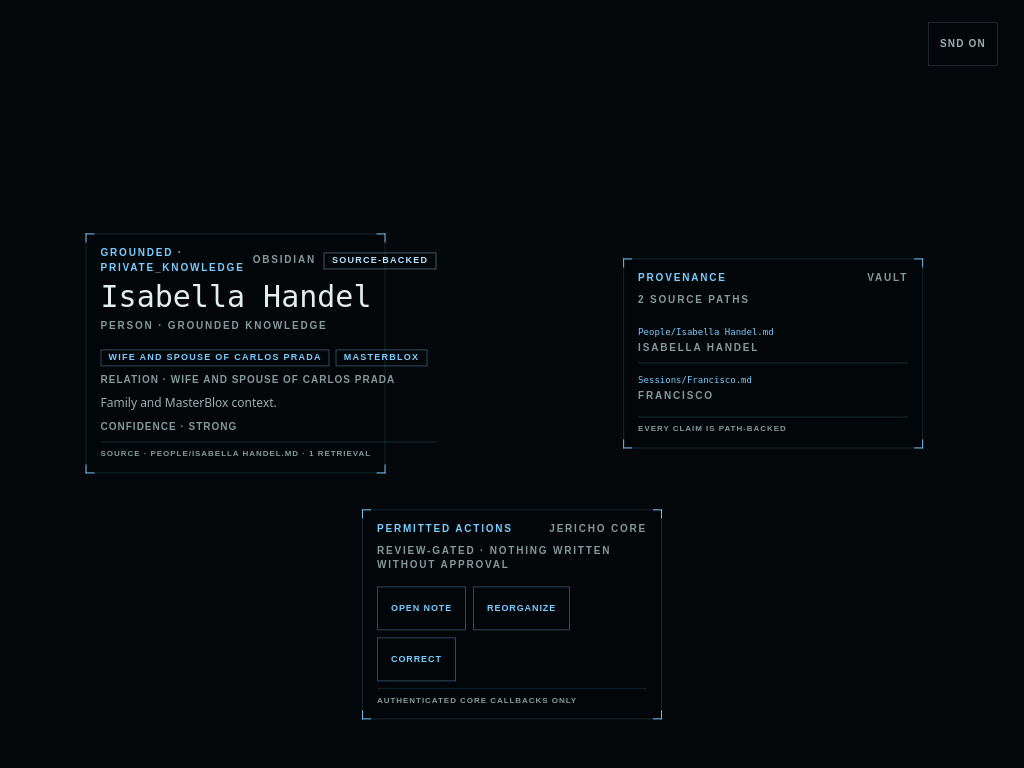
Test: KnowledgeProjection actions › wires Open Note, Reorganize, and Correct through the authenticated callbacks
What coordinates should you click on to do the following:
click the button "OPEN NOTE"
I would click on:
 (422, 608)
Its box is [377,586,466,630].
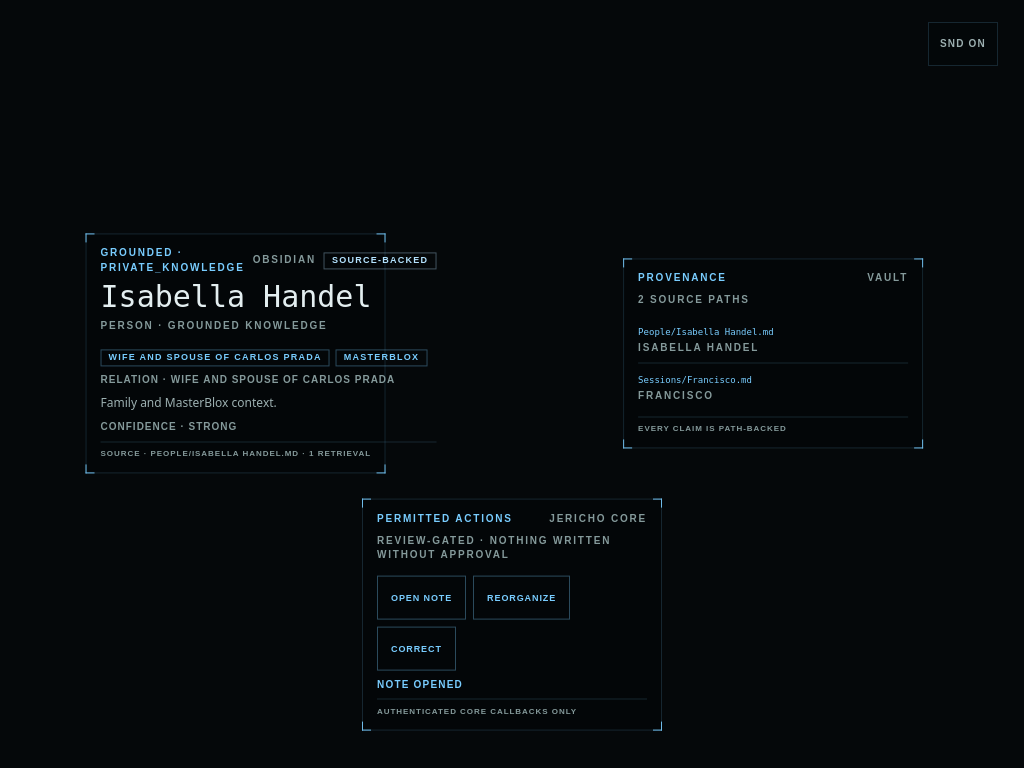
Expected: the text "NOTE OPENED" is shown, [377,678,463,689]
What coordinates should you click on to do the following:
click the button "REORGANIZE"
I would click on:
 (522, 597)
Its box is [473,575,570,619].
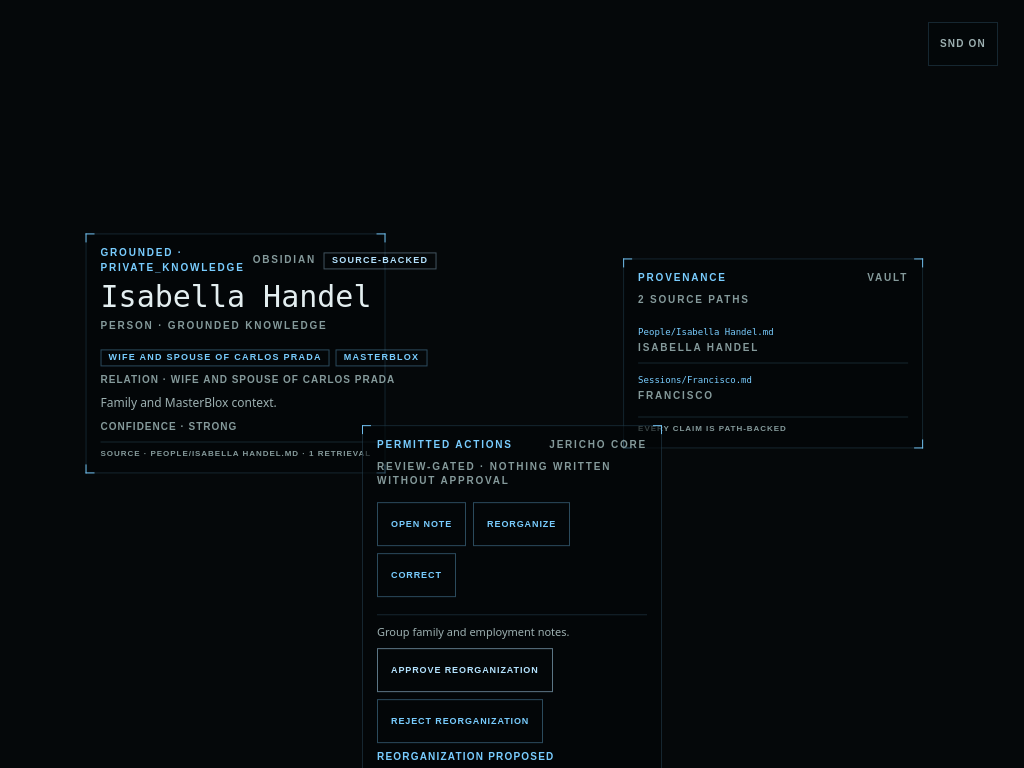
Expected: the text "REORGANIZATION PROPOSED" is shown, [377,752,554,763]
What coordinates should you click on to do the following:
click the button "APPROVE REORGANIZATION"
I would click on:
 (465, 671)
Its box is [377,649,553,693].
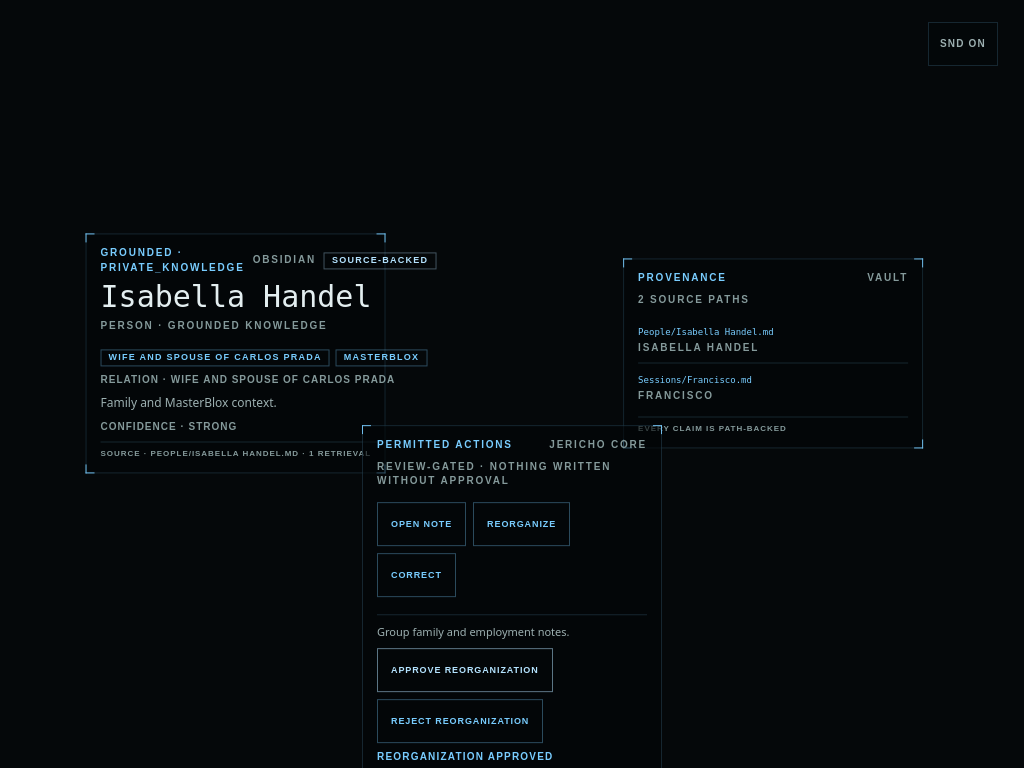
Expected: the text "REORGANIZATION APPROVED" is shown, [377,752,554,763]
What coordinates should you click on to do the following:
click the button "CORRECT"
I would click on:
 (416, 575)
Its box is [377,553,456,597].
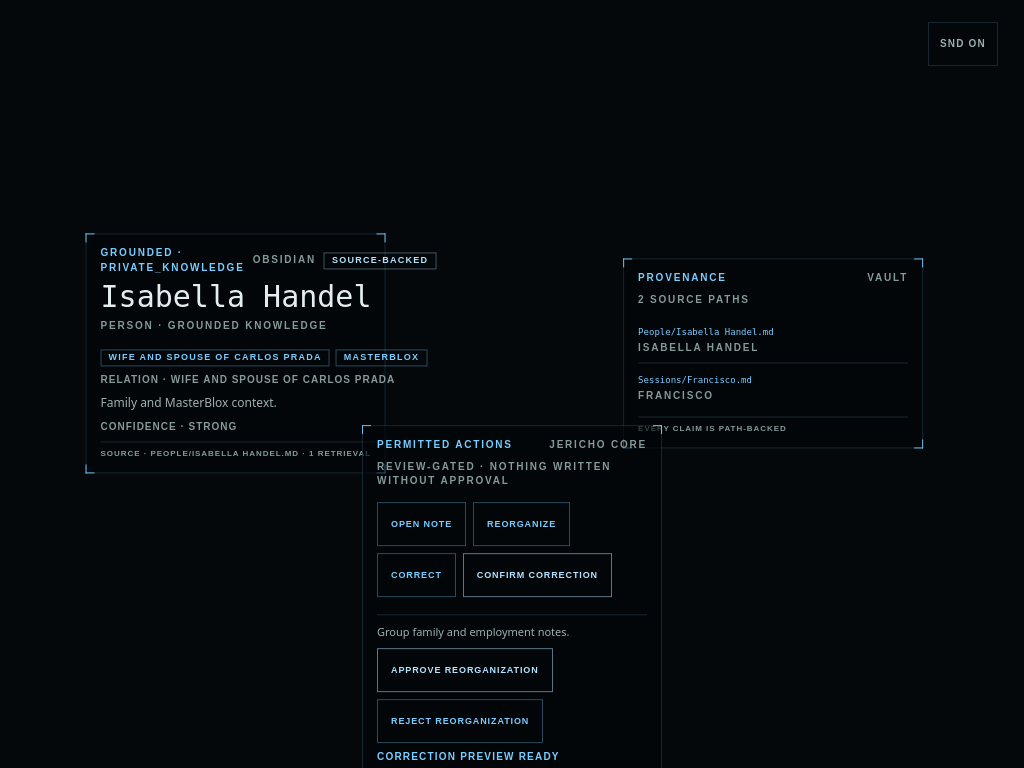
Expected: the text "CORRECTION PREVIEW READY" is shown, [377,752,560,763]
What coordinates should you click on to do the following:
click the button "CONFIRM CORRECTION"
I would click on:
 (537, 575)
Its box is [463,553,612,597].
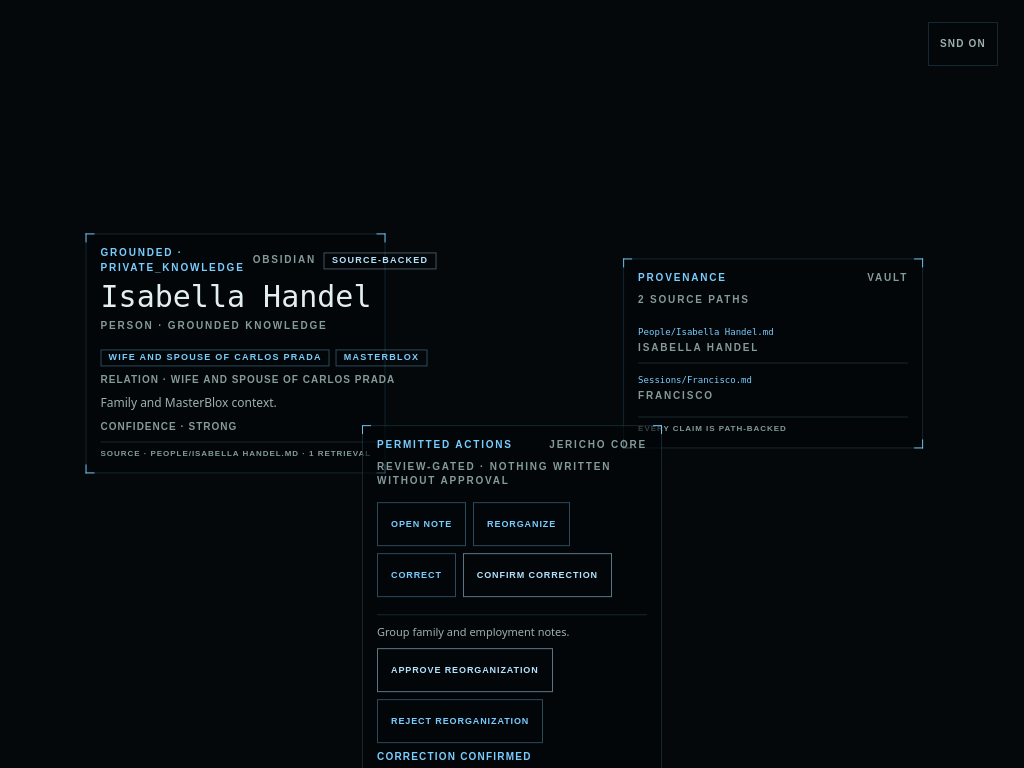
Expected: the text "CORRECTION CONFIRMED" is shown, [377,752,532,763]
